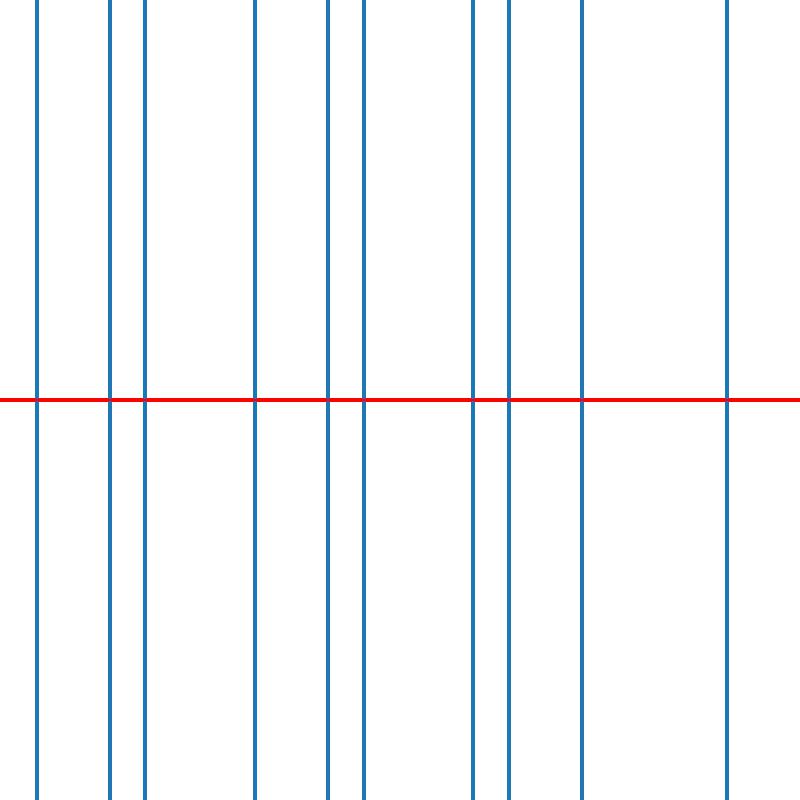root: (250, 396, 258, 404), (32, 396, 40, 404), (141, 396, 149, 404), (505, 396, 512, 404), (360, 396, 367, 404), (105, 396, 112, 404), (469, 396, 476, 404), (323, 396, 330, 404), (723, 396, 730, 404), (578, 396, 585, 404)
